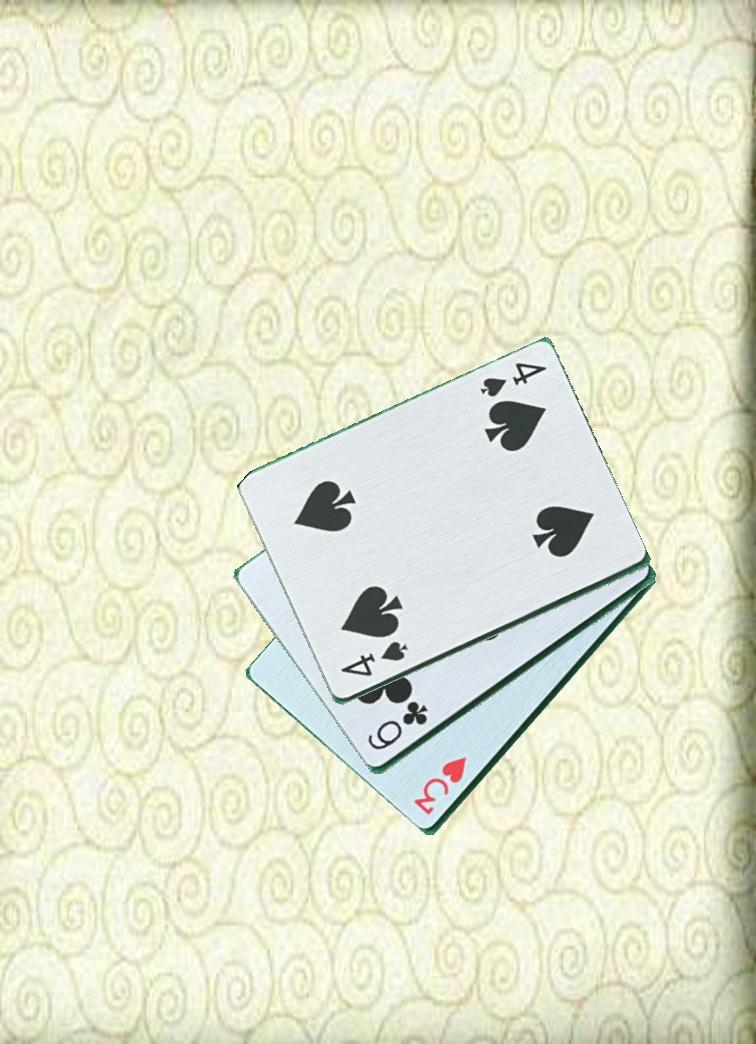3h: (411, 754, 470, 819)
4s: (477, 358, 549, 408), (337, 638, 411, 680)
6c: (364, 701, 431, 754)
